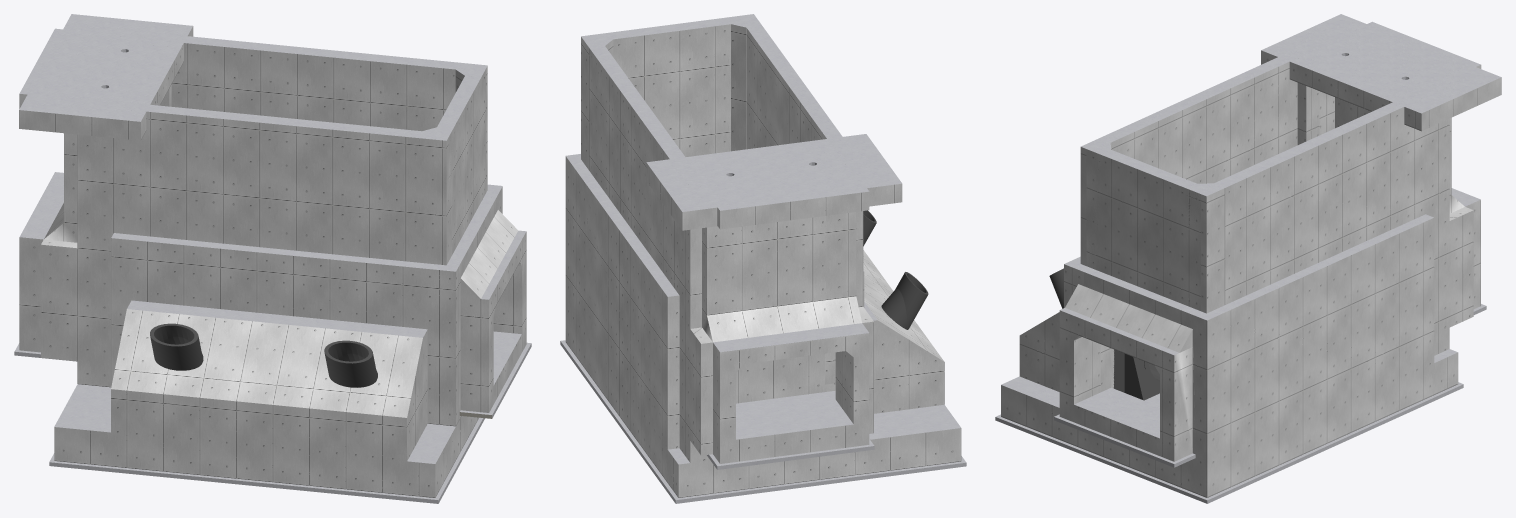
The picture shows the model from 3 angles, left to right: view 1: azimuth 30°, elevation 25°; view 2: azimuth 150°, elevation 25°; view 3: azimuth 270°, elevation 25°; orthographic projection. The views are drawn at different scales.
Visible parts, largest first — view 1: 複合.001, 複合.002, 複合; view 2: 複合.001, 複合.002, 複合; view 3: 複合.001, 複合.002, 複合.
Boxes of the visible parts, bbox=[...] form: 複合.001: bbox=[19, 26, 526, 497]; 複合.002: bbox=[14, 14, 531, 503]; 複合: bbox=[150, 323, 377, 387]; 複合.001: bbox=[565, 24, 961, 497]; 複合.002: bbox=[560, 14, 966, 503]; 複合: bbox=[863, 210, 928, 329]; 複合.001: bbox=[1001, 50, 1501, 497]; 複合.002: bbox=[995, 14, 1501, 503]; 複合: bbox=[1049, 268, 1159, 400].
Size of the model in its own units: 12.24 by 8.4 by 12.92.
4 materials, 4 textured.
